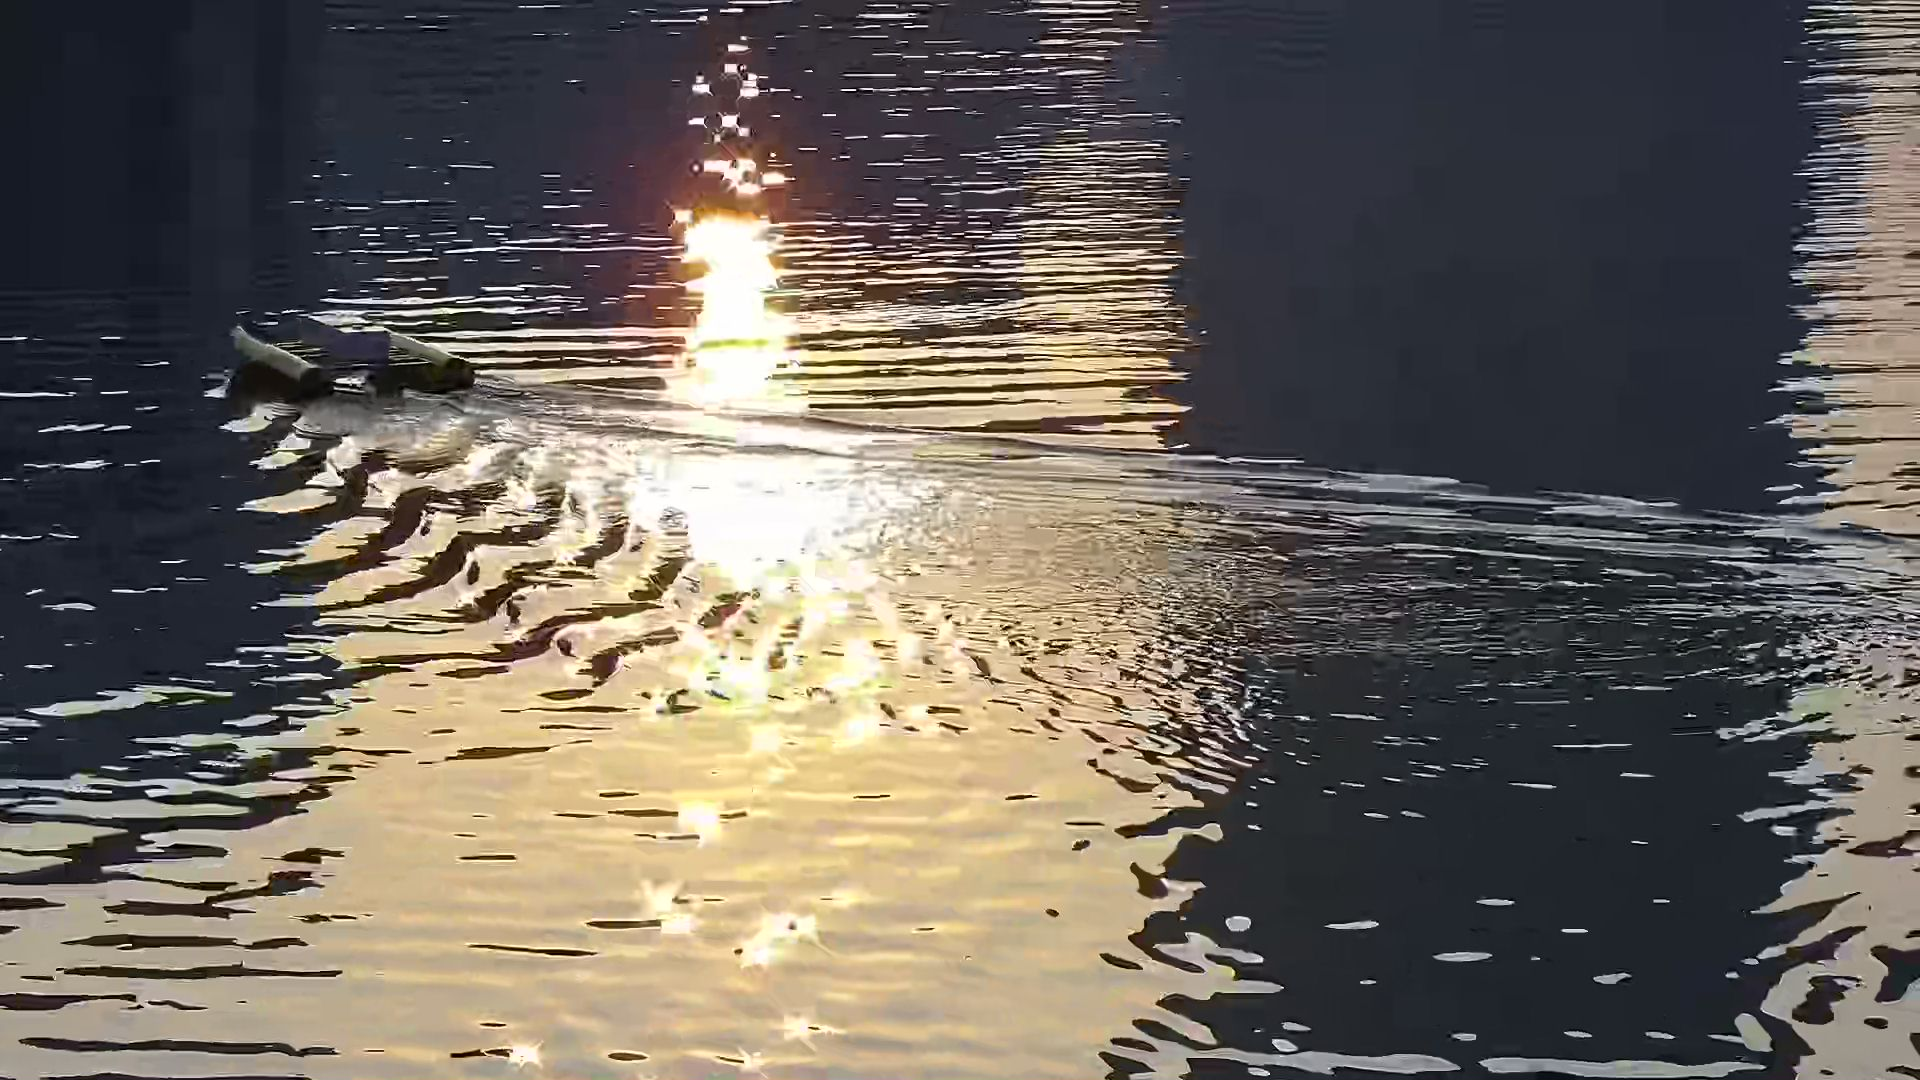boat: (233, 299, 485, 406)
